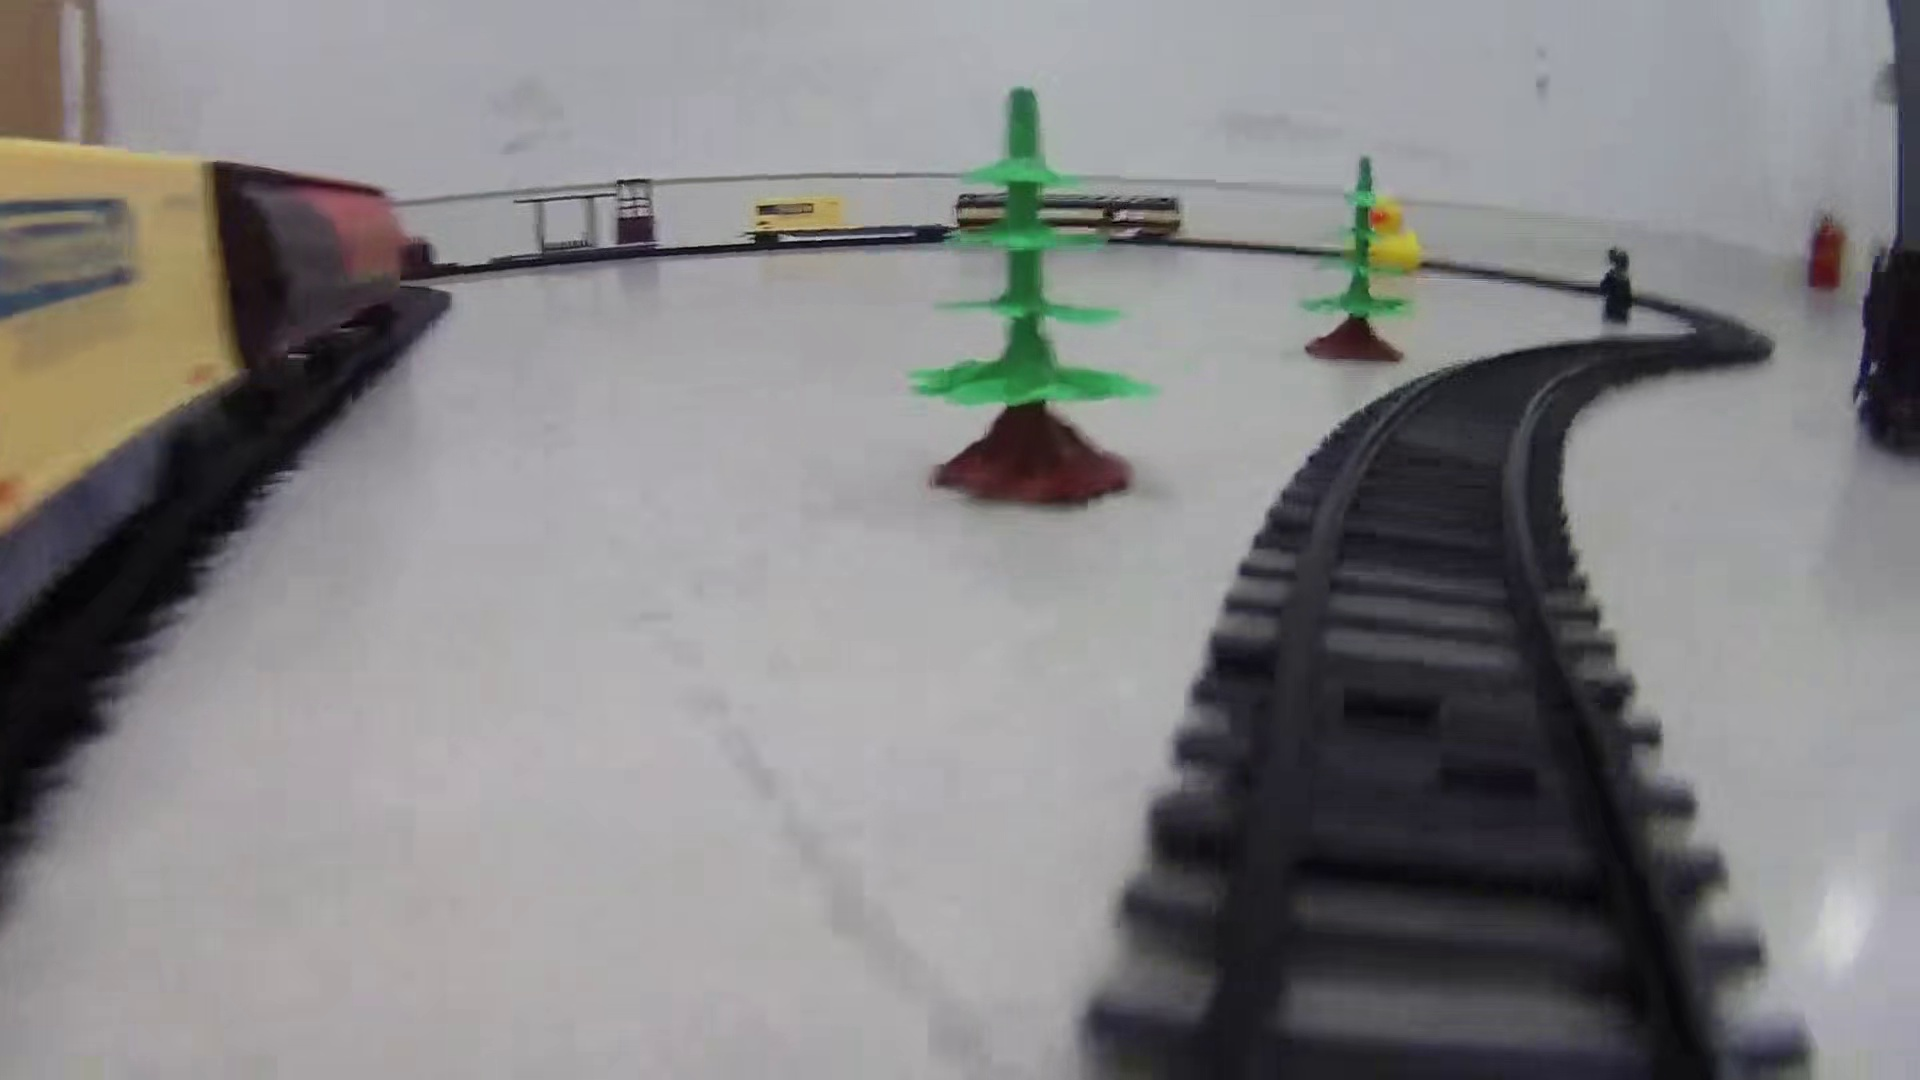people: (1592, 248, 1638, 328)
tree: (904, 85, 1148, 512), (1290, 150, 1410, 366)
